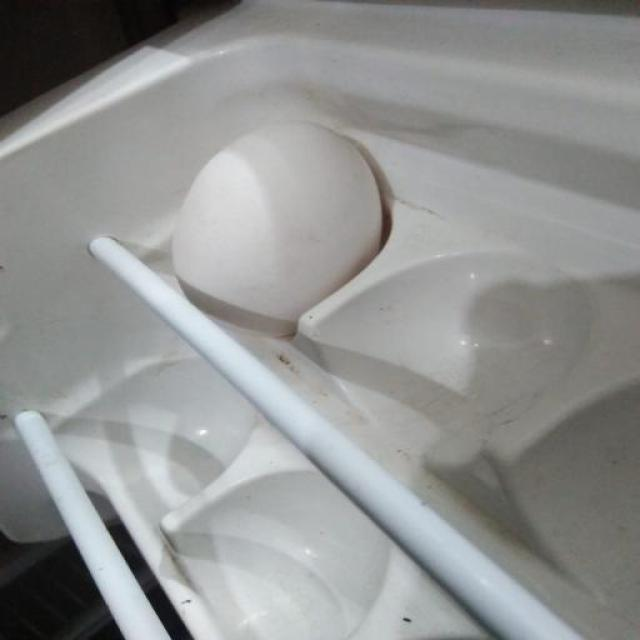telur: (167, 118, 390, 335)
